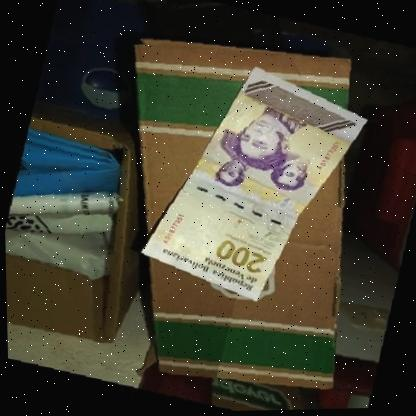two_hundred-front-vef: (129, 49, 377, 319)
